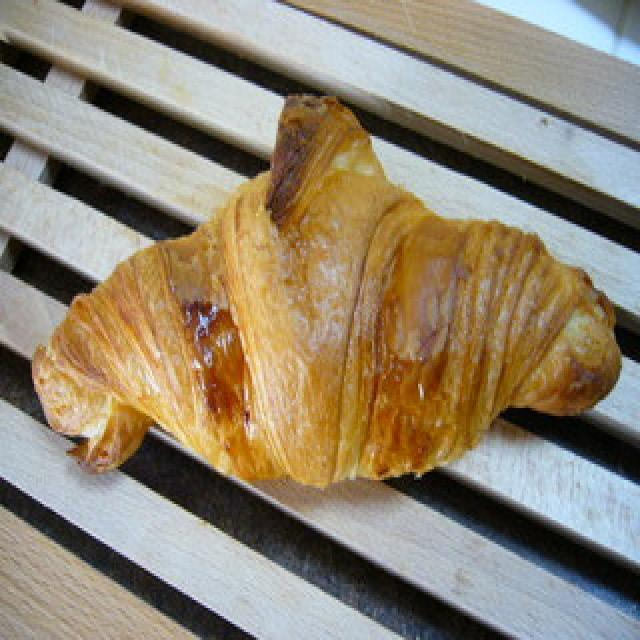Croissant: (31, 84, 636, 486)
